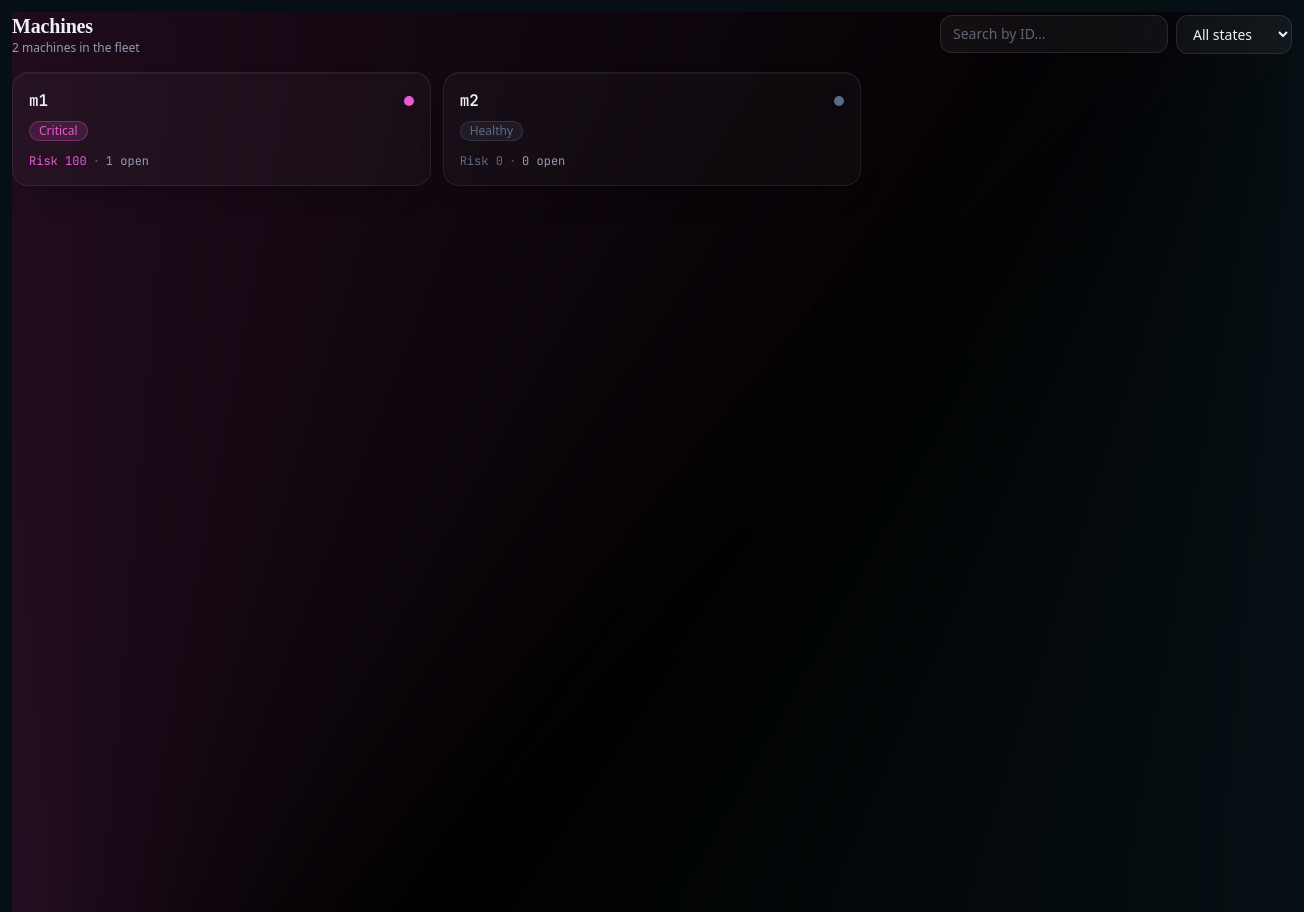
Test: MachinesPage › filters machines by health state
This screenshot has width=1304, height=912.
Expected: the button "m1 Critical Risk 100 · 1 open" is shown, [12, 72, 431, 186]
Step 1. Select "Healthy" in the dropdown named "filter by health state" → (1234,34), box [1176, 14, 1292, 54]
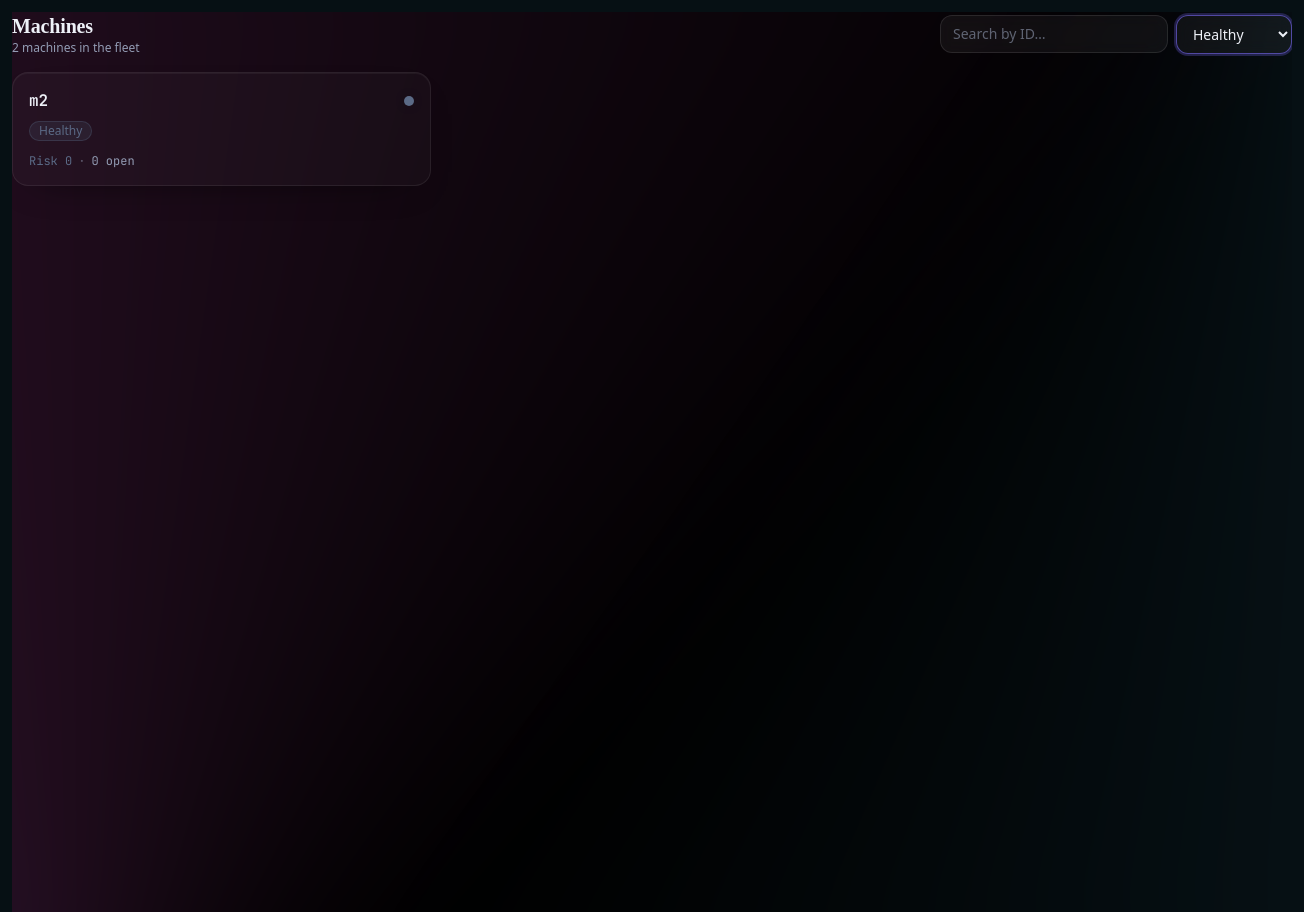
Expected: the button "m2 Healthy Risk 0 · 0 open" is shown, [12, 72, 431, 186]
Expected: the button "m1" is gone
